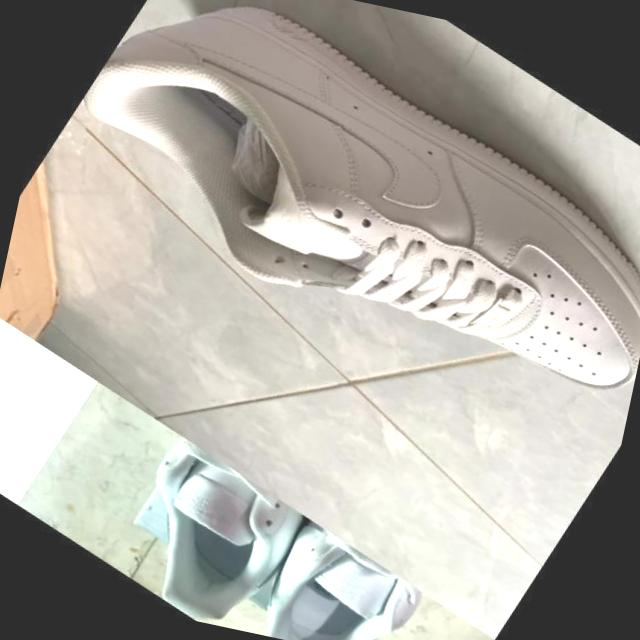nike_original_airforce: (6, 0, 640, 488)
